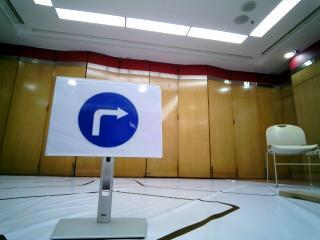right: (58, 80, 159, 151)
